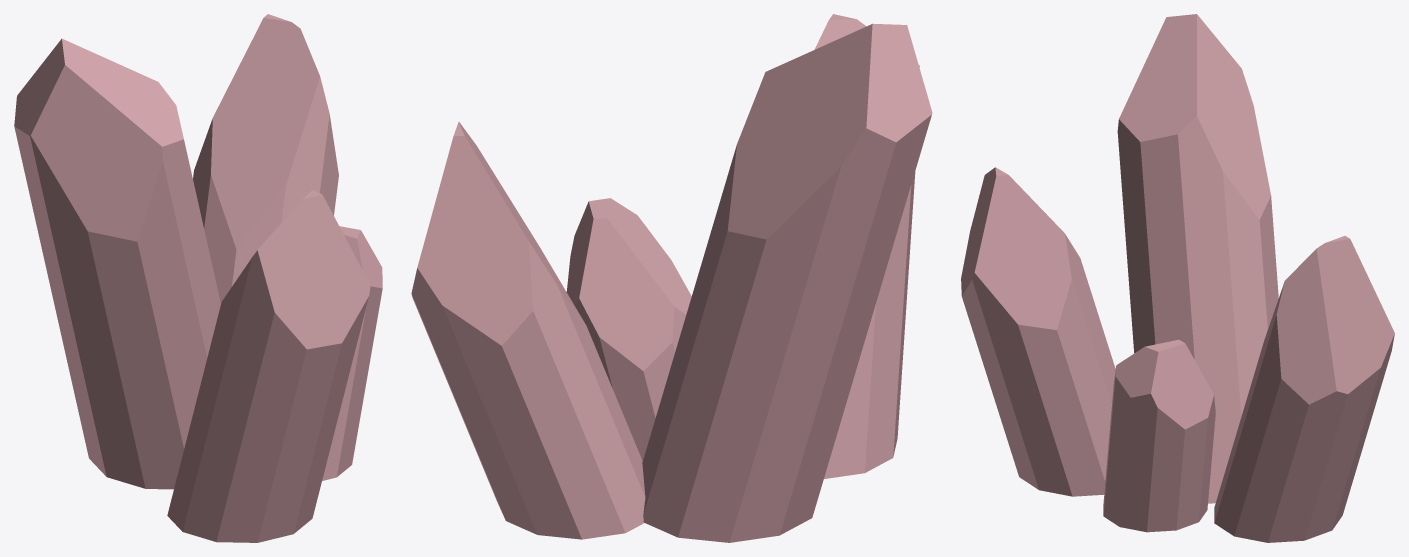
File: gem.glb
The picture shows the model from 3 angles, left to right: view 1: azimuth 30°, elevation 25°; view 2: azimuth 150°, elevation 25°; view 3: azimuth 270°, elevation 25°; orthographic projection. The views are drawn at different scales.
Parts seen in each view (by area): view 1: Cylinder.050; view 2: Cylinder.050; view 3: Cylinder.050.
Boxes of the visible parts, left/top/right/bottom form: Cylinder.050: left=14, top=14, right=382, bottom=542; Cylinder.050: left=411, top=14, right=932, bottom=542; Cylinder.050: left=961, top=14, right=1394, bottom=542.
Size of the model in its own units: 0.5684 by 0.6569 by 0.6368.
